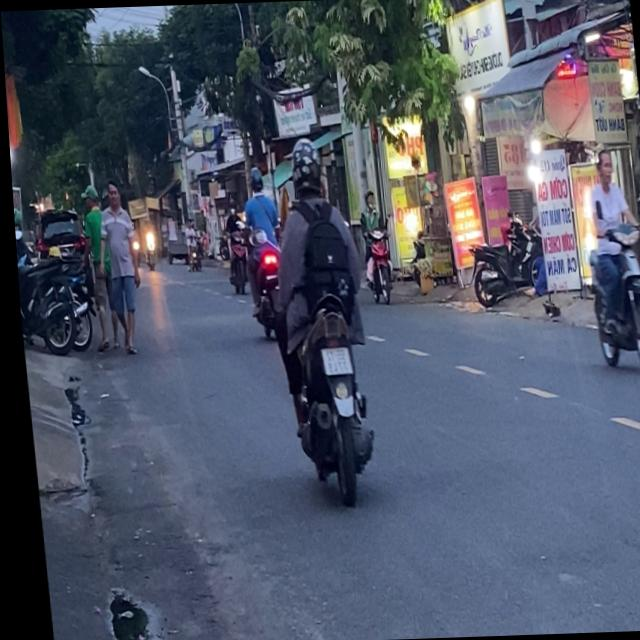helmet: (286, 138, 324, 198), (247, 166, 263, 192), (362, 188, 374, 208)
licenseplate: (253, 133, 379, 502), (572, 146, 640, 378), (234, 164, 289, 340), (353, 187, 393, 304)
motorcyclist: (592, 148, 613, 185)
nohelmet: (317, 346, 347, 373)
